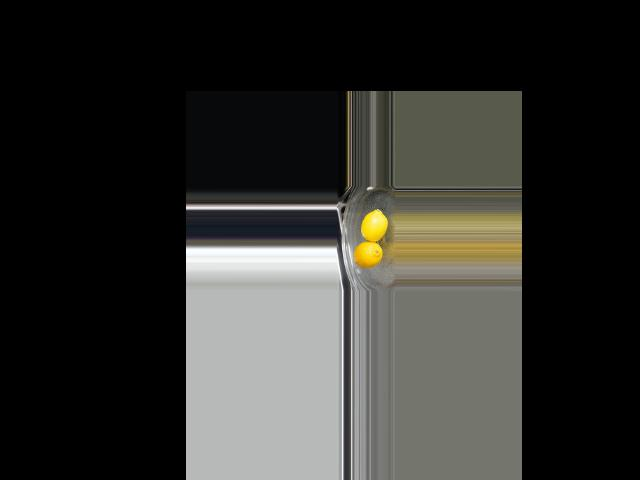lemon: (359, 207, 387, 244)
